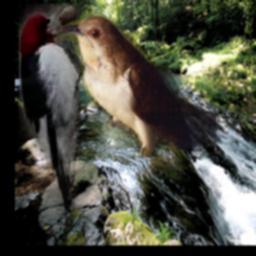Cuckoo: (56, 14, 216, 159)
Woodpecker: (19, 4, 80, 228)
